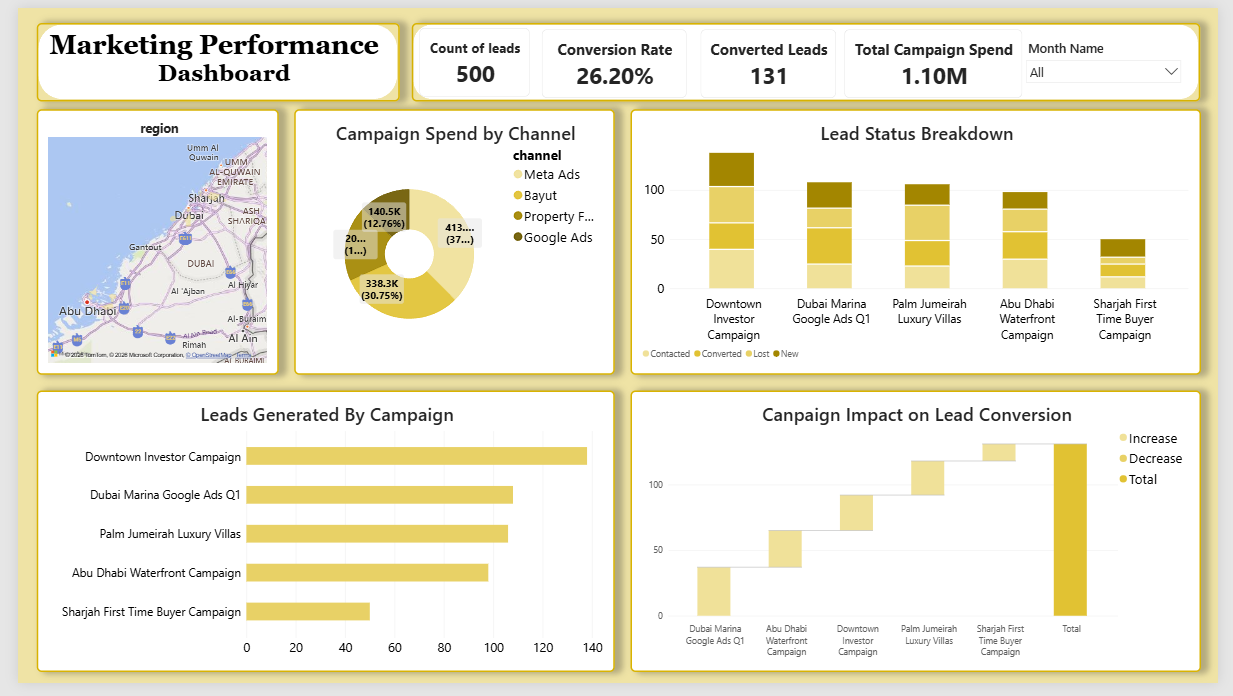

The dashboard page shown, as its layout file describes it:
{"tool":"powerbi","page":{"name":"Page 3","canvas":[1920,1080],"ordinal":2},"visuals":[{"type":"shape","box":[629.8,24.7,1261.8,125.6],"z":0},{"type":"cardVisual","title":"Total Leads","fields":{"Data":["CountNonNull(clean leads.lead_id)"]},"box":[642.9,32.9,177.1,110],"z":1000},{"type":"cardVisual","title":"Conversion Rate","fields":{"Data":["clean sales_details.Conversion Rate"]},"box":[838.9,33.3,232.2,110],"z":2000},{"type":"cardVisual","title":"Total Campaign Spend","fields":{"Data":["clean sales.Total Campaign Spend"]},"box":[1322.5,33.8,285,110],"z":3000},{"type":"cardVisual","title":"Converted Leads","fields":{"Data":["clean sales.Converted Leads"]},"box":[1092.9,34.3,217.1,110],"z":4000},{"type":"clusteredBarChart","title":"Leads Generated By Campaign","fields":{"Category":["clean marketing_campaigns.campaign_name"],"Y":["CountNonNull(clean leads.lead_id)"]},"box":[30,612.5,925,450],"z":5000},{"type":"donutChart","title":"Campaign Spend by Channel","fields":{"Category":["clean marketing_campaigns.channel"],"Y":["Sum(clean marketing_campaigns.spend)"]},"box":[442.5,162.5,512.5,425],"z":6000},{"type":"columnChart","title":"Lead Status Breakdown","fields":{"Category":["clean marketing_campaigns.campaign_name"],"Series":["clean leads.lead_status"],"Y":["CountNonNull(clean leads.lead_id)"]},"box":[980,162.5,912.5,425],"z":7000},{"type":"filledMap","fields":{"Category":["clean leads.region"]},"box":[30,162.5,387.5,425],"z":8000},{"type":"waterfallChart","title":"Canpaign Impact on Lead Conversion","fields":{"Category":["clean marketing_campaigns.campaign_name"],"Y":["clean sales.Converted Leads"]},"box":[980,612.5,912.5,450],"z":9000},{"type":"slicer","fields":{"Values":["clean sales.Month Name"]},"box":[1608,50,258,94],"z":10000},{"type":"shape","box":[30.9,24.7,580.4,125.6],"z":11000},{"type":"textbox","box":[50,34,560,116],"z":12000}]}

Visuals, with their boxes in screenshot pixels (x1, y1, x2, y2), scaled from the page's 1920x1080 canvas onto the 1233x696 screenshot:
shape: (left=404, top=16, right=1215, bottom=97)
"Total Leads" cardVisual: (left=413, top=21, right=527, bottom=92)
"Conversion Rate" cardVisual: (left=539, top=21, right=688, bottom=92)
"Total Campaign Spend" cardVisual: (left=849, top=22, right=1032, bottom=93)
"Converted Leads" cardVisual: (left=702, top=22, right=841, bottom=93)
"Leads Generated By Campaign" clusteredBarChart: (left=19, top=395, right=613, bottom=685)
"Campaign Spend by Channel" donutChart: (left=284, top=105, right=613, bottom=379)
"Lead Status Breakdown" columnChart: (left=629, top=105, right=1215, bottom=379)
filledMap - clean leads.region: (left=19, top=105, right=268, bottom=379)
"Canpaign Impact on Lead Conversion" waterfallChart: (left=629, top=395, right=1215, bottom=685)
slicer - clean sales.Month Name: (left=1033, top=32, right=1198, bottom=93)
shape: (left=20, top=16, right=393, bottom=97)
textbox: (left=32, top=22, right=392, bottom=97)
